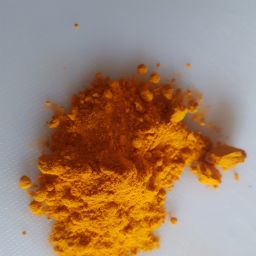Turmeric dried: (27, 20, 256, 256), (11, 97, 256, 227), (71, 57, 219, 152), (72, 108, 168, 232), (60, 160, 153, 253)
